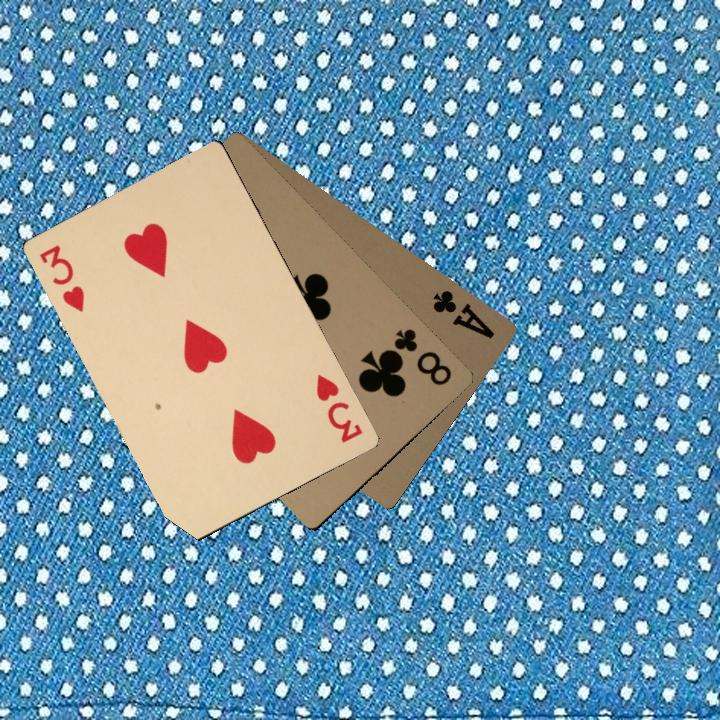3h: (312, 370, 366, 445), (35, 240, 87, 315)
8c: (389, 324, 455, 389)
Ac: (428, 285, 497, 341)
